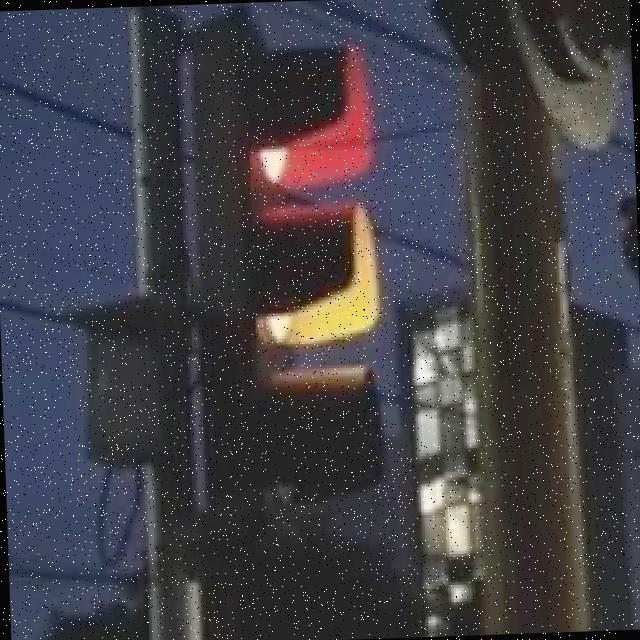Zolte swiatlo: (190, 10, 390, 517)
